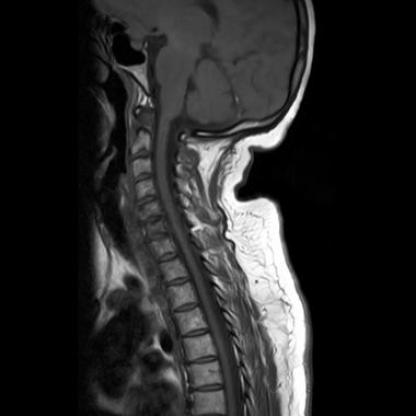Disc Bulgerotation: (137, 217, 165, 228), (143, 232, 171, 243)
Osteophytesrotation: (143, 232, 171, 243), (137, 216, 164, 227)
